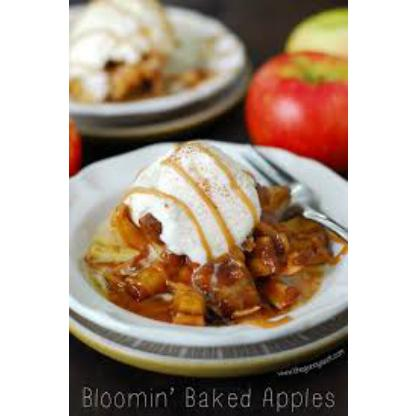apple: (254, 48, 346, 170), (68, 122, 76, 174)
